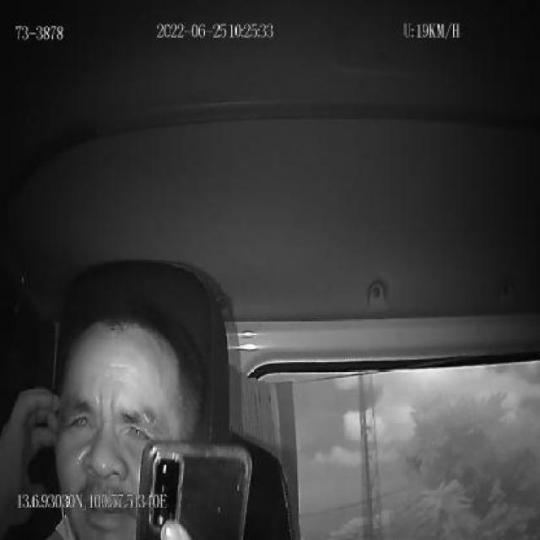phone: (133, 439, 252, 540)
